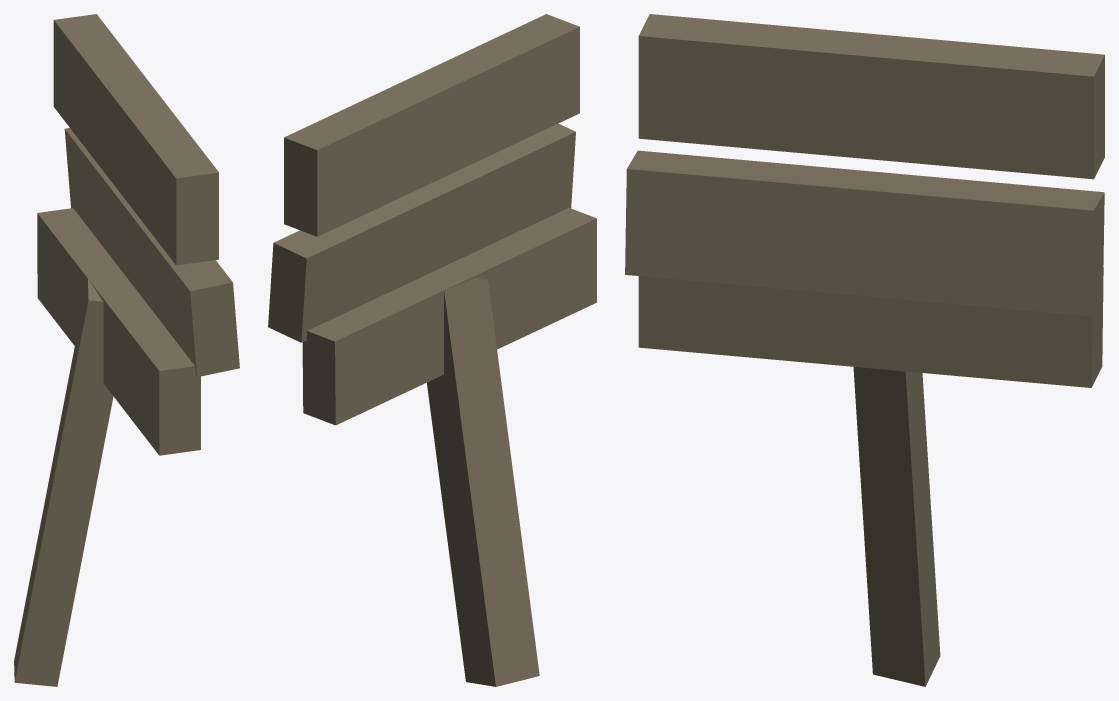
Rendered from sign.fbx.
The picture shows the model from 3 angles, left to right: view 1: azimuth 30°, elevation 25°; view 2: azimuth 150°, elevation 25°; view 3: azimuth 270°, elevation 25°; orthographic projection. The views are drawn at different scales.
Parts seen in each view (by area): view 1: Cube.008; view 2: Cube.008; view 3: Cube.008.
Part boxes in pixels (x1,y1,x2,y2): Cube.008: (14, 14, 239, 686); Cube.008: (268, 14, 596, 686); Cube.008: (625, 14, 1104, 686).
Size of the model in its own units: 30.26 by 57.24 by 88.75.
